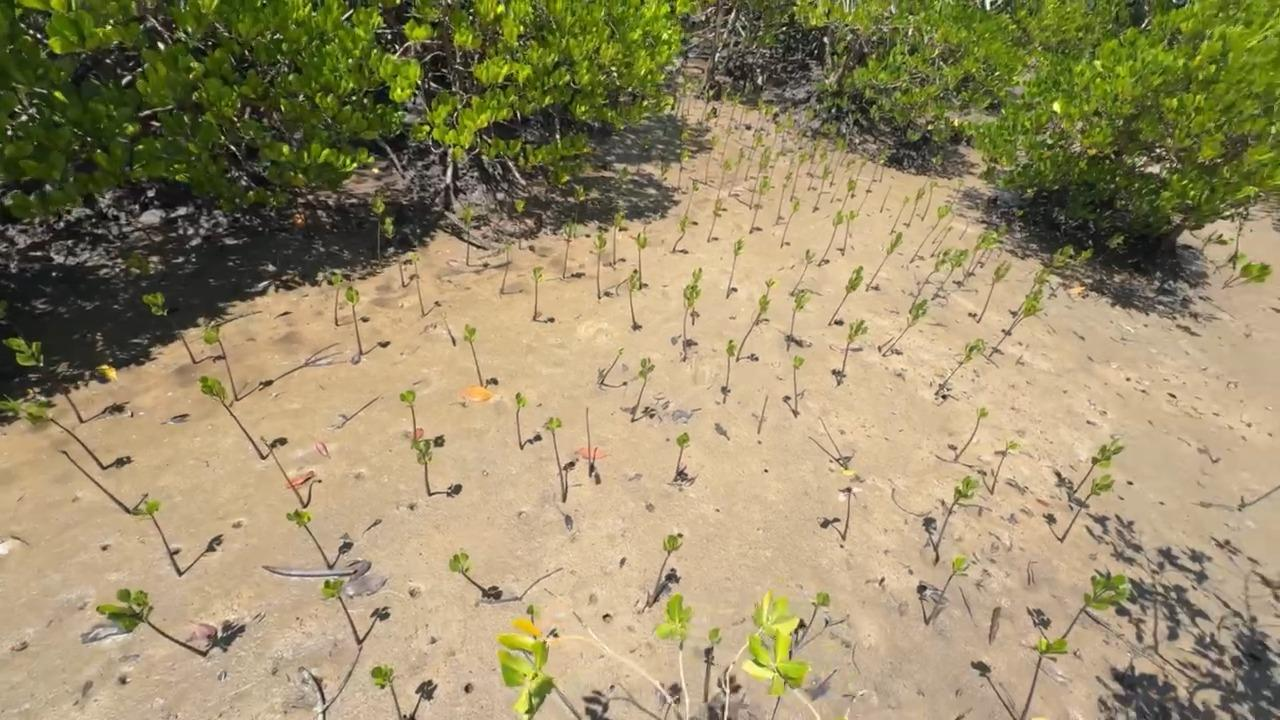Tree: (95, 588, 207, 658), (1, 335, 85, 424), (198, 375, 265, 461), (21, 404, 106, 471), (58, 449, 131, 515), (1060, 574, 1129, 639), (1019, 636, 1070, 720), (142, 291, 197, 364), (132, 499, 183, 577), (933, 475, 983, 551), (1060, 474, 1114, 543), (259, 436, 306, 508), (989, 301, 1045, 357), (925, 556, 968, 626), (934, 338, 986, 395), (285, 508, 333, 569), (1072, 438, 1124, 494), (909, 249, 952, 313), (881, 299, 928, 357), (321, 578, 361, 644), (204, 324, 238, 401), (648, 535, 683, 607), (909, 204, 951, 264), (735, 294, 771, 363), (1047, 248, 1094, 300), (865, 232, 903, 292), (827, 266, 863, 326), (977, 260, 1011, 323), (838, 318, 869, 386), (1012, 267, 1053, 318), (958, 231, 993, 289), (794, 592, 830, 648), (953, 407, 989, 462), (379, 216, 406, 288), (931, 249, 968, 301), (542, 417, 565, 499), (1004, 288, 1044, 335), (370, 664, 402, 720), (817, 416, 849, 470), (449, 552, 488, 596), (630, 357, 655, 423), (991, 440, 1021, 495), (1039, 244, 1074, 288), (748, 147, 772, 210), (817, 209, 843, 267), (682, 285, 701, 362), (855, 159, 880, 217), (1220, 262, 1272, 289), (787, 292, 810, 352), (968, 231, 996, 278), (704, 627, 721, 703), (980, 223, 1009, 267), (830, 156, 857, 203), (749, 175, 770, 235), (369, 191, 385, 267), (464, 324, 483, 387), (726, 236, 745, 299), (789, 148, 811, 202), (791, 249, 816, 296), (345, 286, 363, 351), (413, 438, 432, 496), (837, 486, 856, 541), (812, 162, 832, 213), (780, 201, 801, 249), (593, 229, 607, 300), (775, 170, 793, 225), (807, 145, 828, 192), (562, 218, 578, 279), (756, 278, 776, 326), (723, 339, 737, 404), (744, 135, 763, 182), (714, 159, 732, 208), (907, 183, 926, 229), (850, 154, 869, 200), (600, 348, 624, 384), (829, 142, 848, 187), (728, 147, 745, 197), (1242, 485, 1280, 507), (400, 390, 417, 439), (674, 432, 690, 482), (462, 205, 475, 266), (1214, 251, 1248, 274), (793, 355, 805, 418), (805, 134, 823, 176), (707, 199, 724, 243), (890, 196, 908, 236), (725, 92, 742, 134), (930, 226, 953, 257), (515, 392, 527, 451), (330, 272, 343, 326), (532, 267, 545, 321), (1201, 229, 1236, 249), (921, 181, 938, 222), (842, 210, 857, 256), (627, 269, 638, 331), (705, 133, 718, 185), (691, 267, 702, 326), (613, 211, 625, 265), (714, 87, 730, 127), (637, 232, 648, 290), (514, 197, 526, 249), (414, 262, 425, 318), (687, 75, 702, 115), (700, 87, 717, 122), (932, 216, 954, 243), (672, 216, 688, 253), (752, 98, 767, 137), (636, 137, 651, 174), (781, 109, 794, 151), (684, 182, 699, 217), (500, 244, 510, 295), (747, 130, 763, 161), (841, 177, 856, 210), (720, 126, 733, 164), (829, 136, 845, 165), (617, 166, 630, 200), (677, 149, 688, 189), (757, 395, 768, 434), (769, 144, 781, 178), (526, 604, 537, 640), (879, 146, 890, 181), (880, 184, 892, 213), (585, 408, 590, 476), (681, 75, 689, 117), (772, 121, 784, 147), (840, 150, 849, 166), (959, 225, 968, 240), (957, 179, 964, 194)
